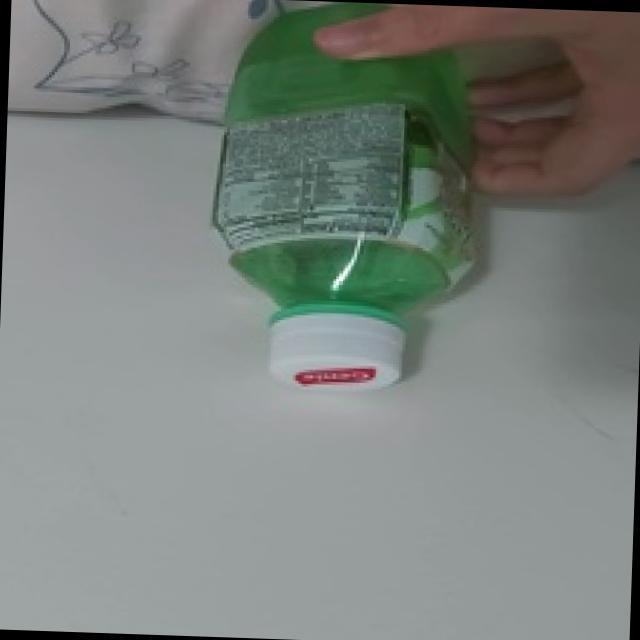good: (186, 0, 502, 404)
